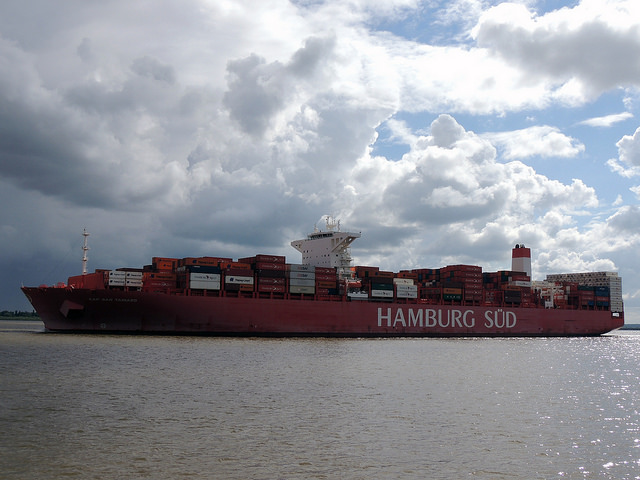container_ship: (23, 221, 622, 340)
